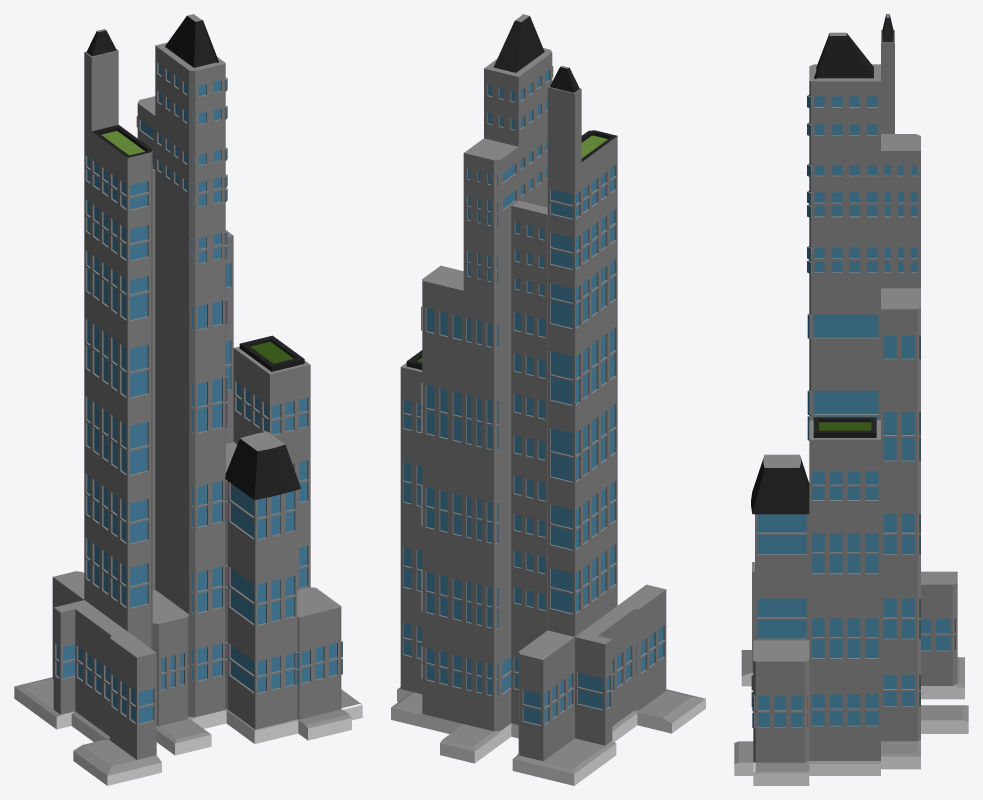
Rendered from scraper2.fbx.
3 views of the same model, side by side, from view 1: azimuth 30°, elevation 25°; view 2: azimuth 150°, elevation 25°; view 3: azimuth 270°, elevation 25° (orthographic).
Visible parts, largest first — view 1: Cube; view 2: Cube; view 3: Cube.
Boxes of the visible parts, x1,y1,x2,y2 form: Cube: [14, 14, 362, 785]; Cube: [391, 14, 705, 785]; Cube: [734, 14, 968, 785].
Size of the model in its own units: 1490 by 3809 by 1172.
